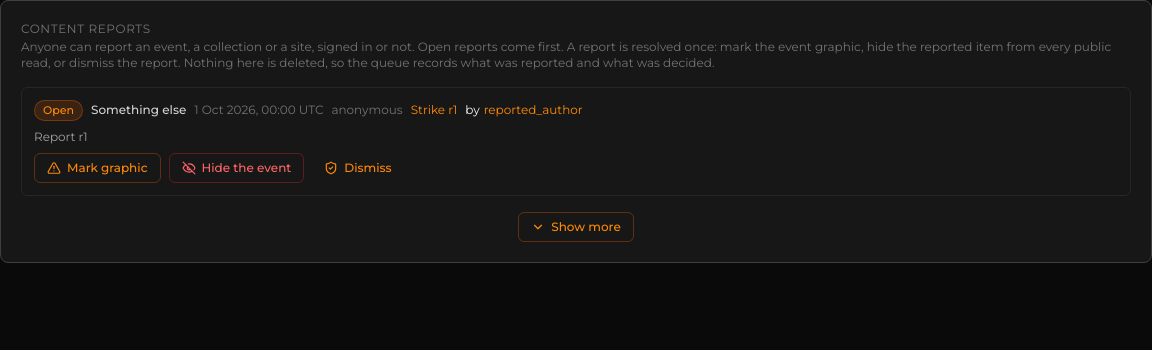
it: <ReportsPanel> › walks the offset pages with Show more
Check: the text "Report r1" is shown, box [34, 129, 88, 144]
Click the button "Show more". click: (576, 227)
box: [518, 212, 634, 242]
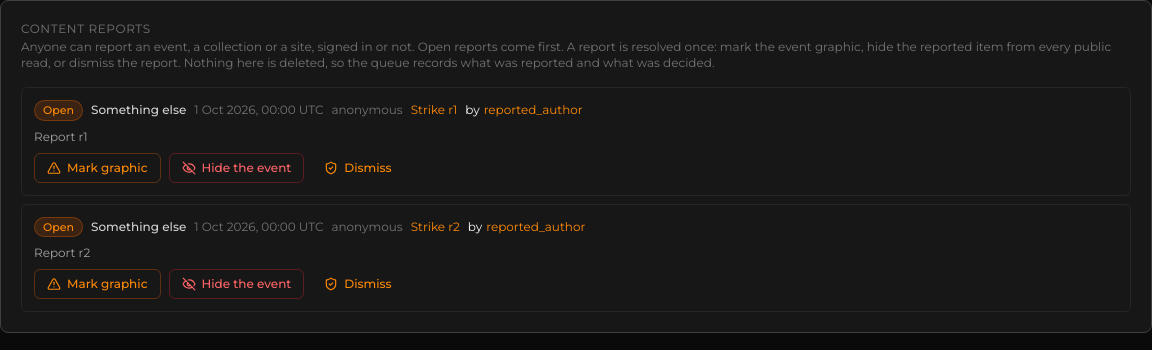
Check: the text "Report r1" is shown, box [34, 129, 88, 144]
Check: the text "Report r2" is shown, box [34, 245, 90, 260]
Check: the button "Show more" is gone
